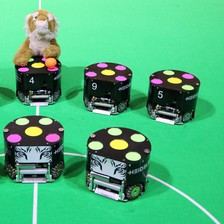ball: (43, 56, 56, 68)
robot: (84, 123, 153, 204), (1, 114, 68, 185), (146, 67, 202, 126), (80, 59, 136, 115), (14, 61, 63, 107)
